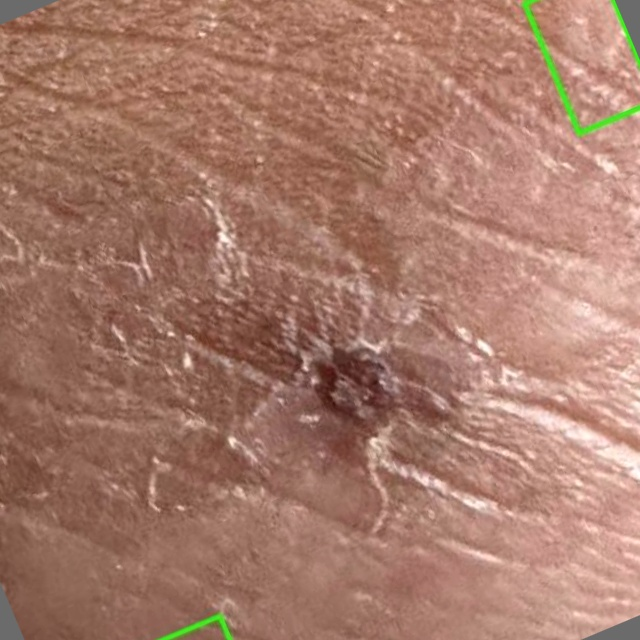Scabies: (524, 0, 639, 133)
